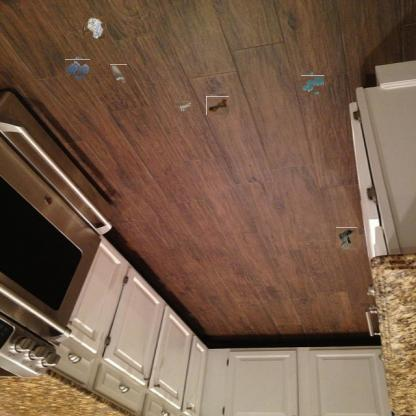dirty: (335, 228, 358, 250), (84, 16, 106, 38), (207, 95, 228, 116), (109, 64, 127, 83), (177, 96, 190, 110)
liquid: (67, 57, 88, 79), (302, 73, 323, 94)
